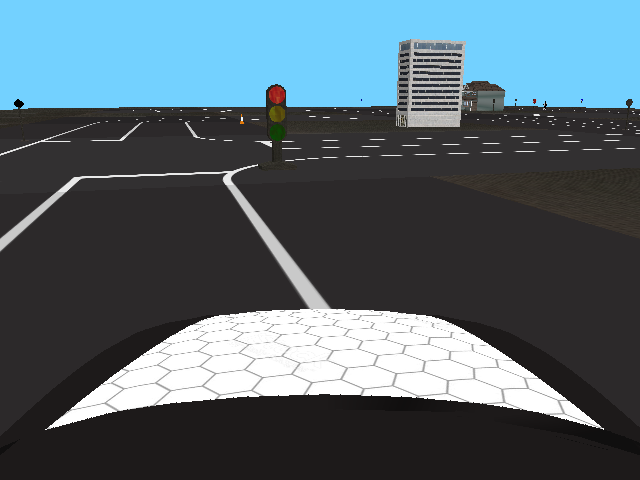red_light: (265, 84, 288, 143)
